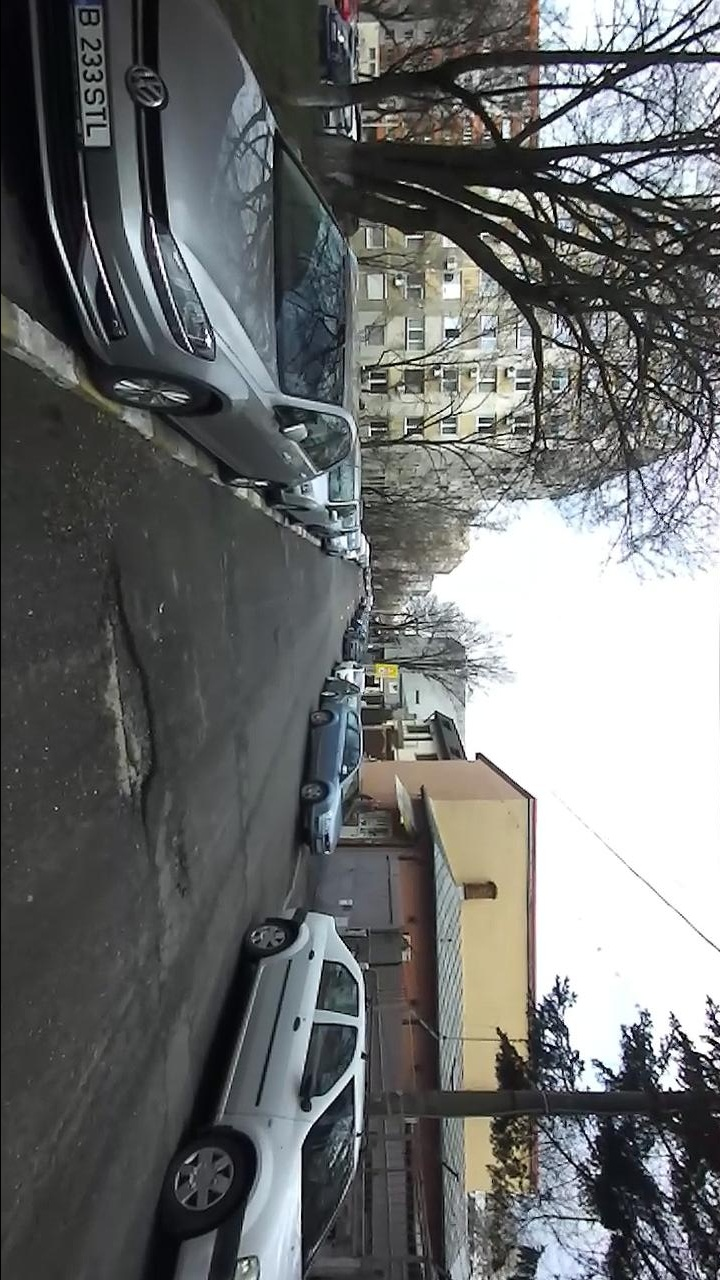pothole: (92, 548, 161, 841), (164, 808, 198, 905)
